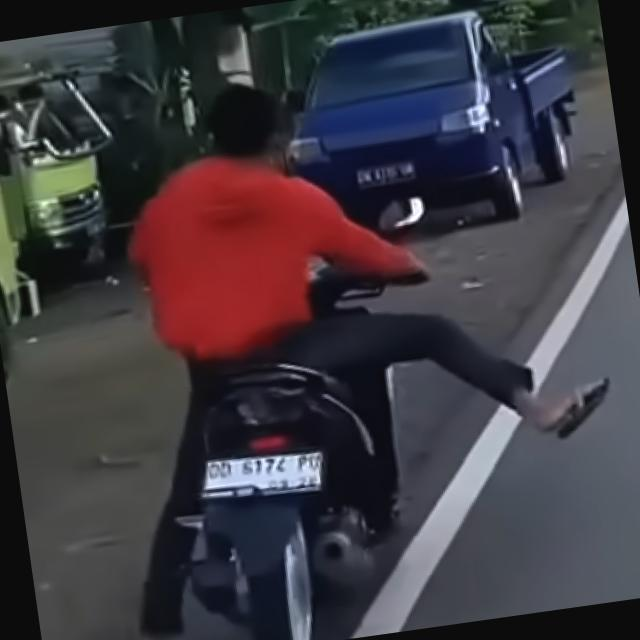WithoutHelmet: (66, 37, 638, 640)
